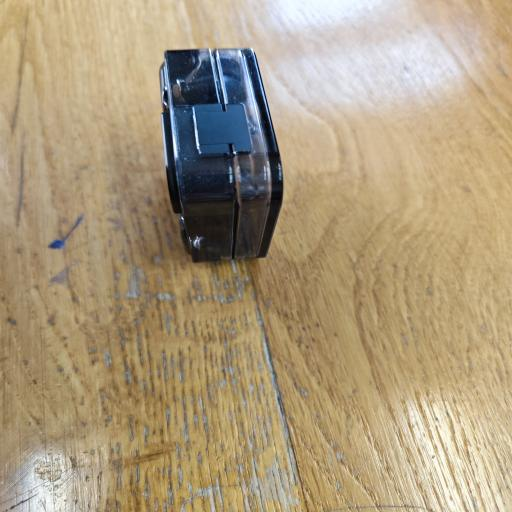Headphones: (148, 42, 290, 268)
